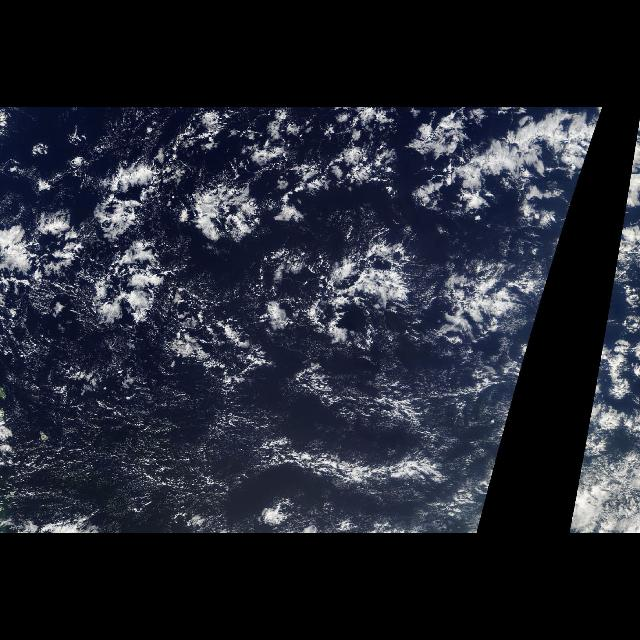Gravel: (5, 144, 542, 378)
Sugar: (0, 281, 476, 533)
